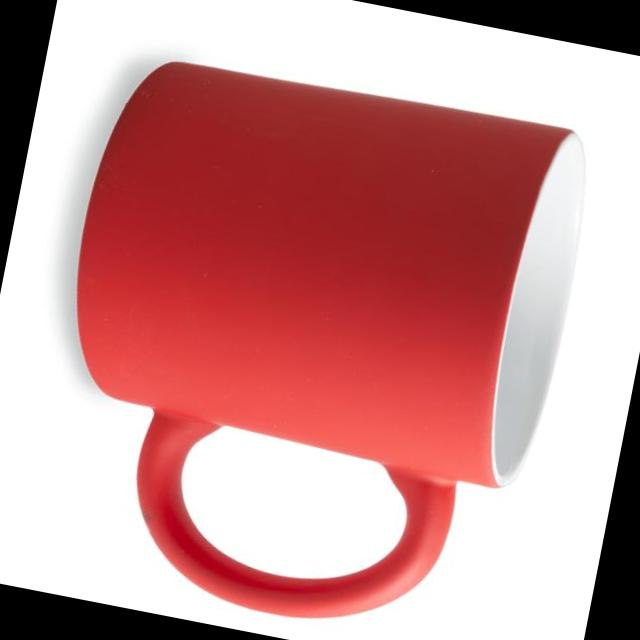Coffee Mug: (16, 39, 603, 640)
